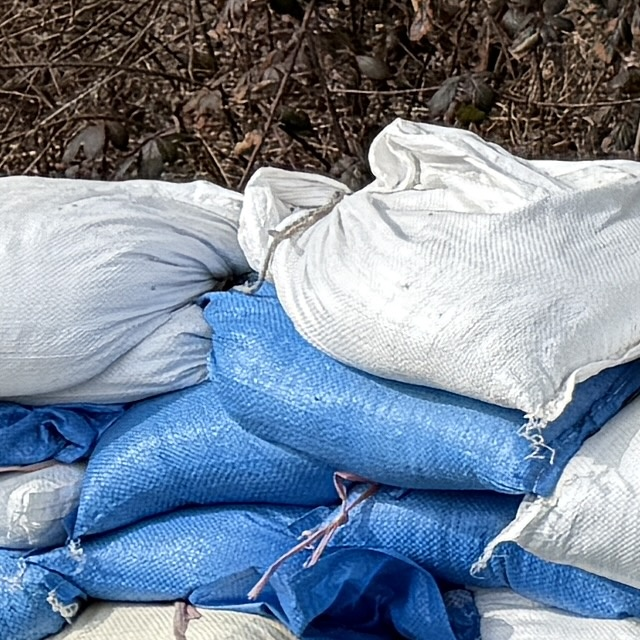sandbag: (240, 120, 640, 428), (206, 288, 640, 495), (32, 507, 480, 640), (0, 178, 245, 399), (74, 385, 332, 542), (343, 493, 640, 618), (491, 399, 640, 589), (4, 304, 210, 404), (51, 603, 296, 640), (0, 403, 124, 471), (475, 593, 640, 640), (0, 465, 84, 550)
